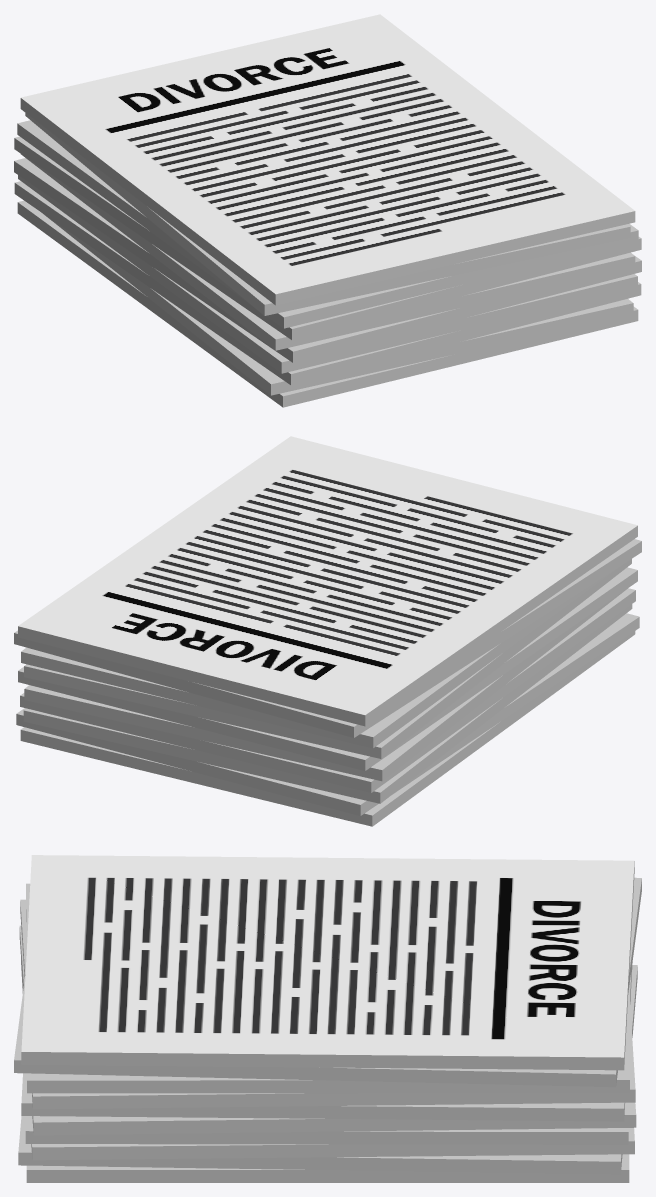
The model's file is DivorcePapersTexturedFINAL.fbx.
3 views of the same model, one above another, from view 1: azimuth 30°, elevation 25°; view 2: azimuth 150°, elevation 25°; view 3: azimuth 270°, elevation 25° (orthographic). The views are drawn at different scales.
Visible parts, largest first — view 1: DivorcePapers_Combined; view 2: DivorcePapers_Combined; view 3: DivorcePapers_Combined.
Boxes of the visible parts, x1=… form: DivorcePapers_Combined: x1=14, y1=14, x2=641, y2=407; DivorcePapers_Combined: x1=14, y1=436, x2=641, y2=826; DivorcePapers_Combined: x1=14, y1=855, x2=641, y2=1182.
Bounding box in the file's own units: 0.9102 × 0.2581 × 1.15.
2 materials, 1 textured.
